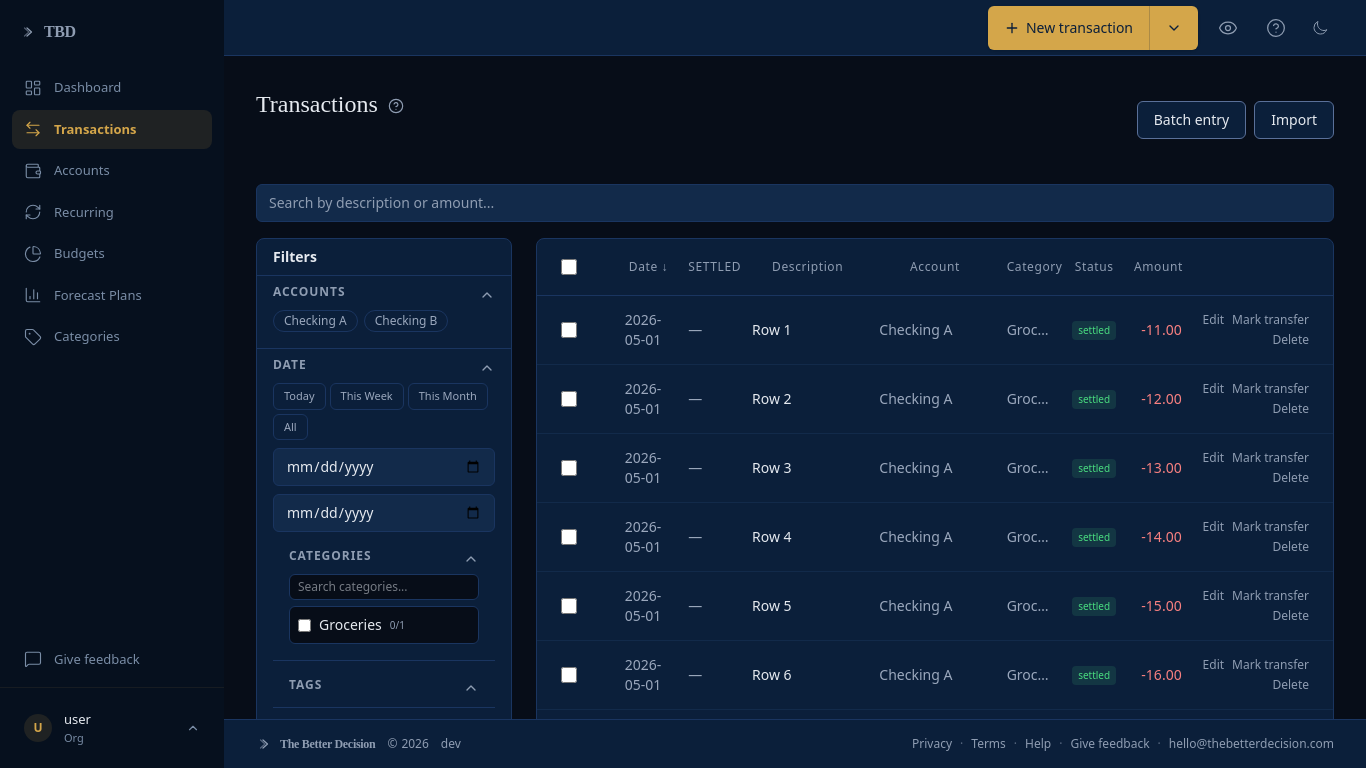
TransactionsPage — server-side pagination/sort/selection (Task 4) › selection clears on navigation
The image size is (1366, 768).
Step 1. Click the checkbox named "Select transaction 1" → (569, 330), box [561, 322, 577, 338]
(page scrolled)
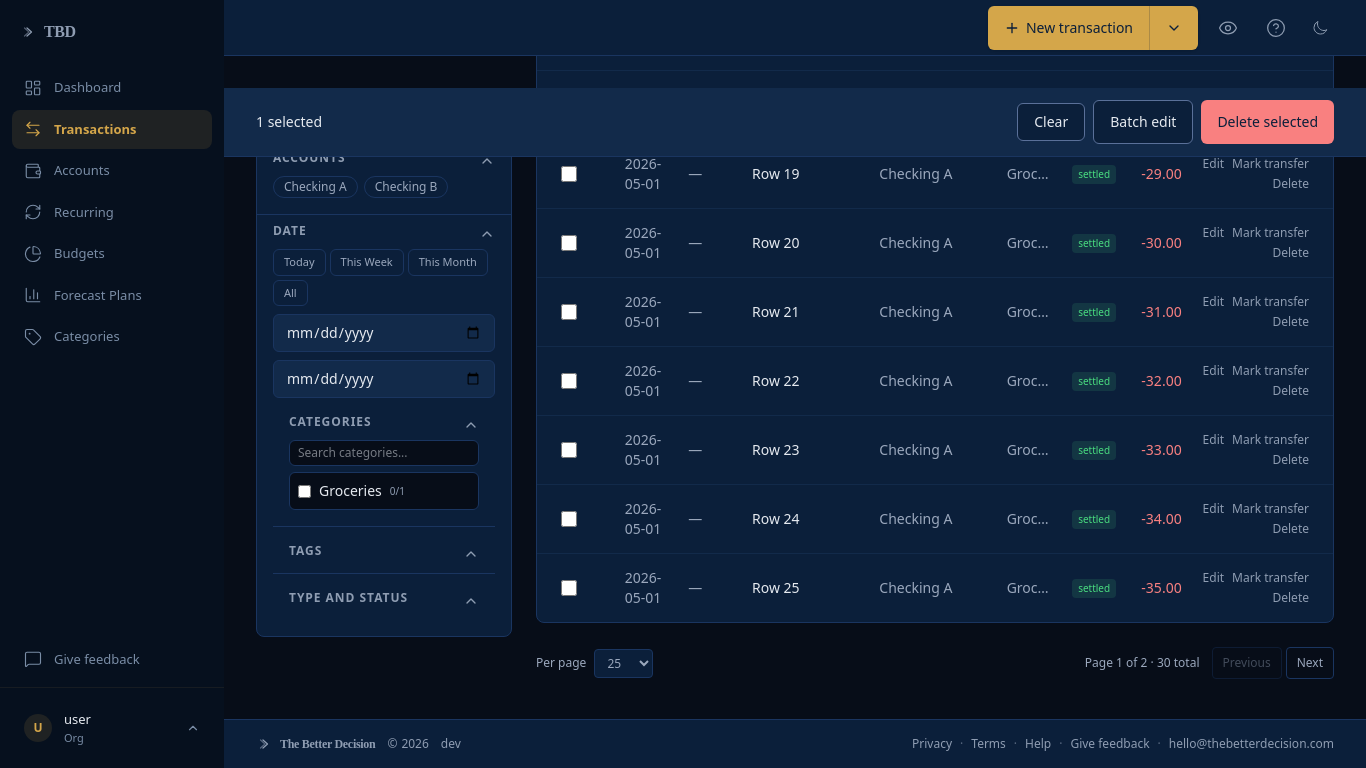
expect the text "1 selected" is shown: met, box [256, 112, 322, 132]
Step 2. Click the button with aria-label "Next page" → (1310, 663), box [1286, 647, 1334, 679]
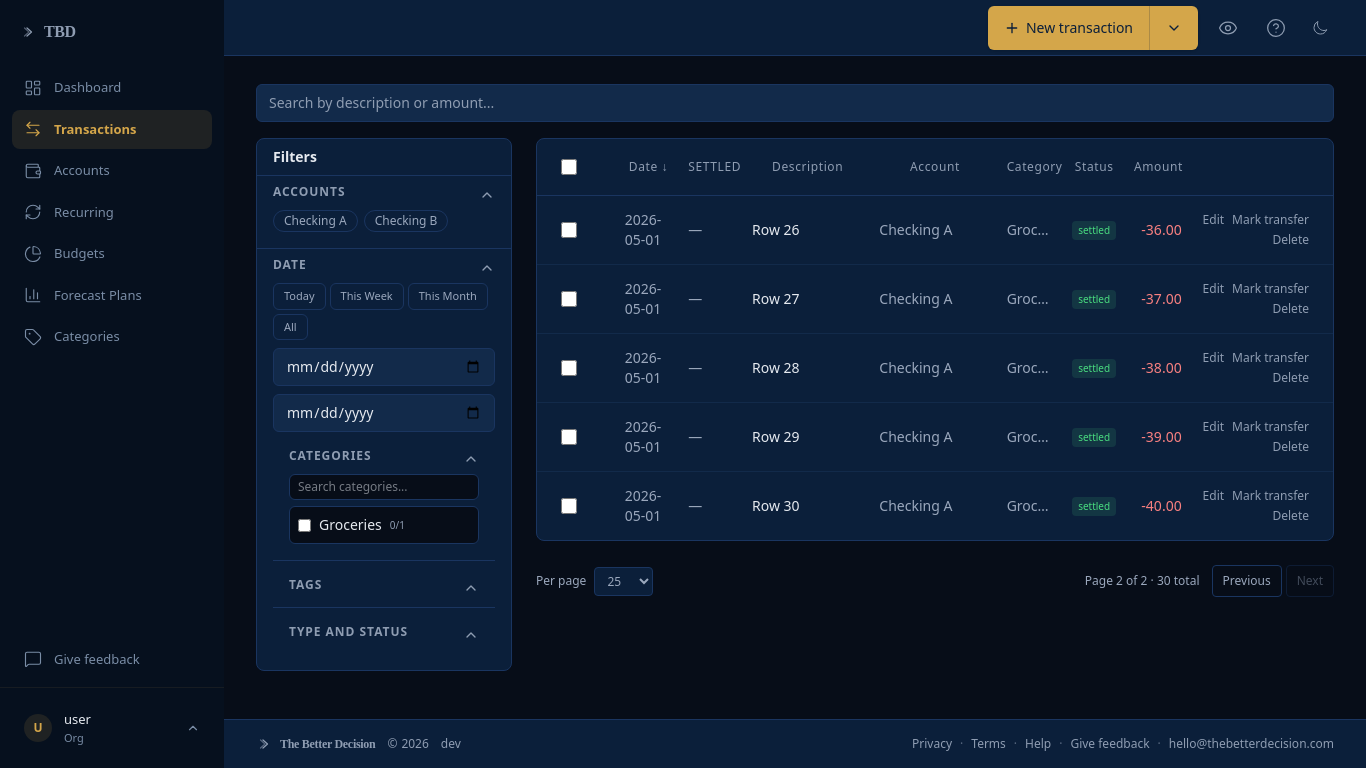
expect the text "1 selected" is not shown: met
